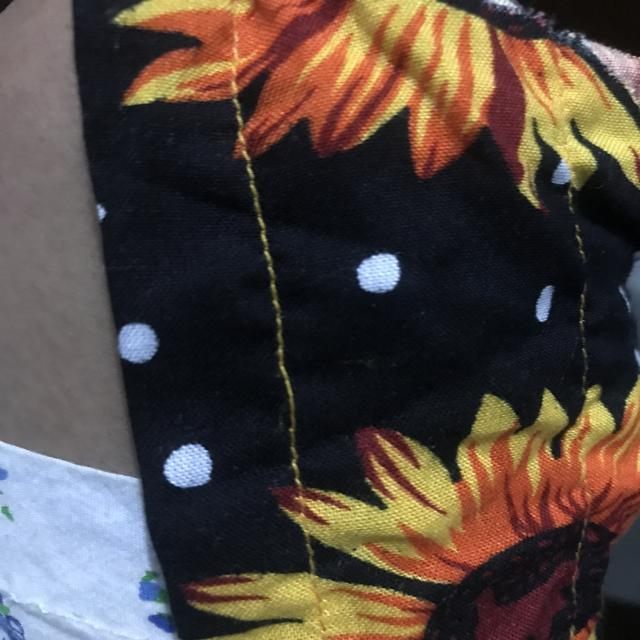good: (235, 220, 303, 324)
skip: (259, 356, 318, 437)
